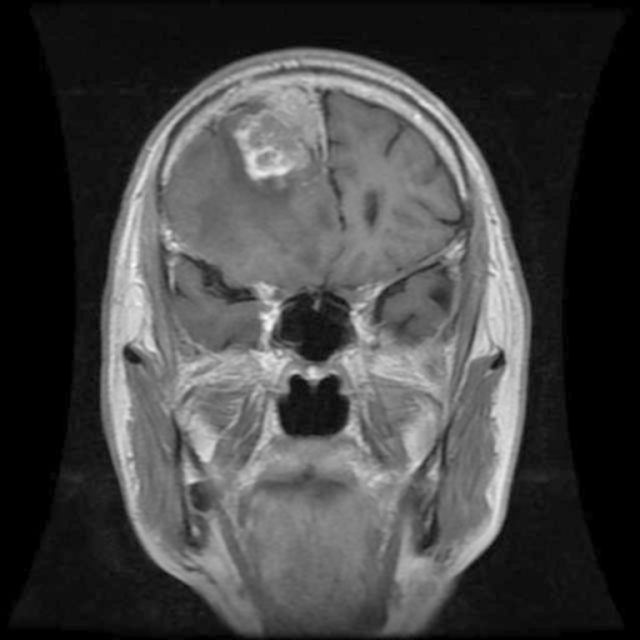meningioma tumor: (221, 71, 335, 190)
